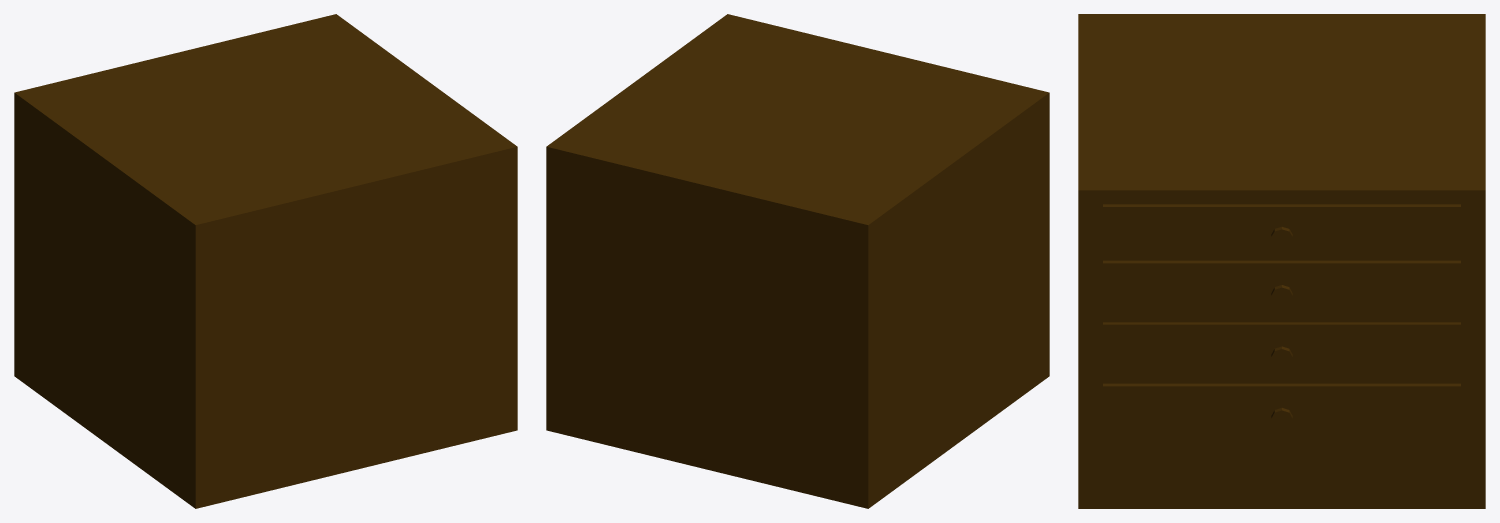
File: obj_mesaLateral.fbx
3 renders of one model, left to right at view 1: azimuth 30°, elevation 25°; view 2: azimuth 150°, elevation 25°; view 3: azimuth 270°, elevation 25°, orthographic. The views are drawn at different scales.
Parts seen in each view (by area): view 1: Cube.014; view 2: Cube.014; view 3: Cube.014, Cube.016, Cube.018, Cube.017, Cube.015.
Boxes of the visible parts, x1,y1,x2,y2 form: Cube.014: [14, 14, 517, 508]; Cube.014: [546, 14, 1049, 508]; Cube.014: [1078, 14, 1485, 508]; Cube.016: [1103, 260, 1460, 317]; Cube.018: [1103, 383, 1460, 440]; Cube.017: [1103, 322, 1460, 378]; Cube.015: [1103, 204, 1460, 256].
Size of the model in its own units: 0.7719 by 0.6231 by 0.7215.
